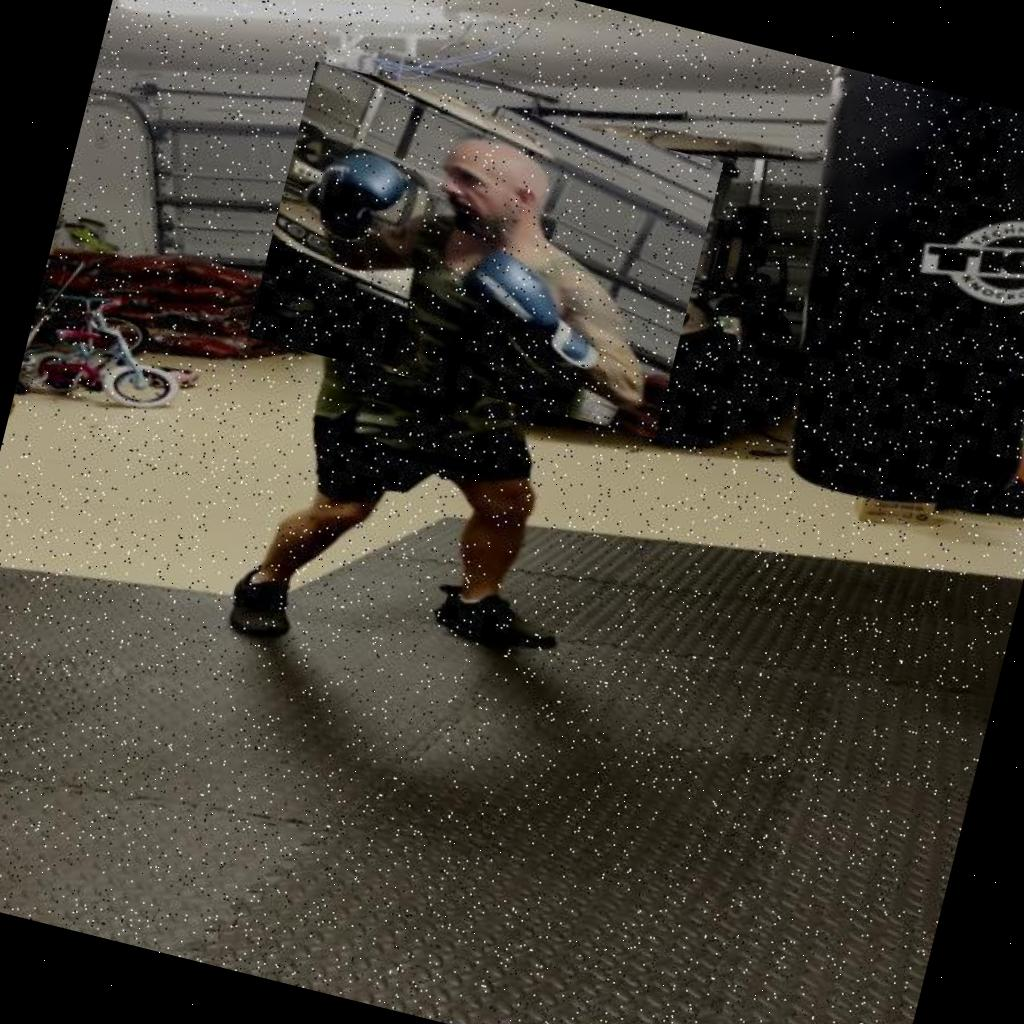bag: (705, 59, 1024, 565)
no punch: (246, 62, 723, 438)
